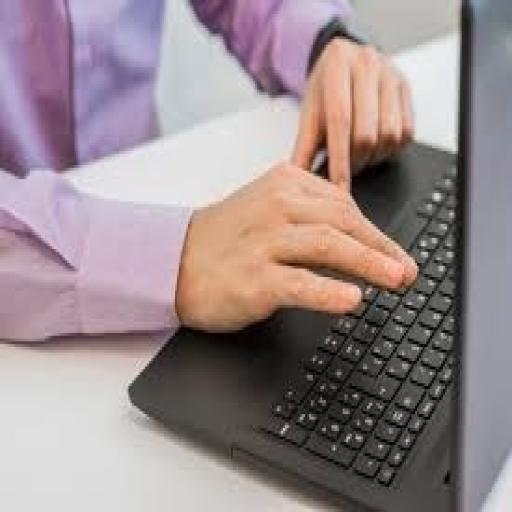using_laptop: (125, 0, 510, 509)
